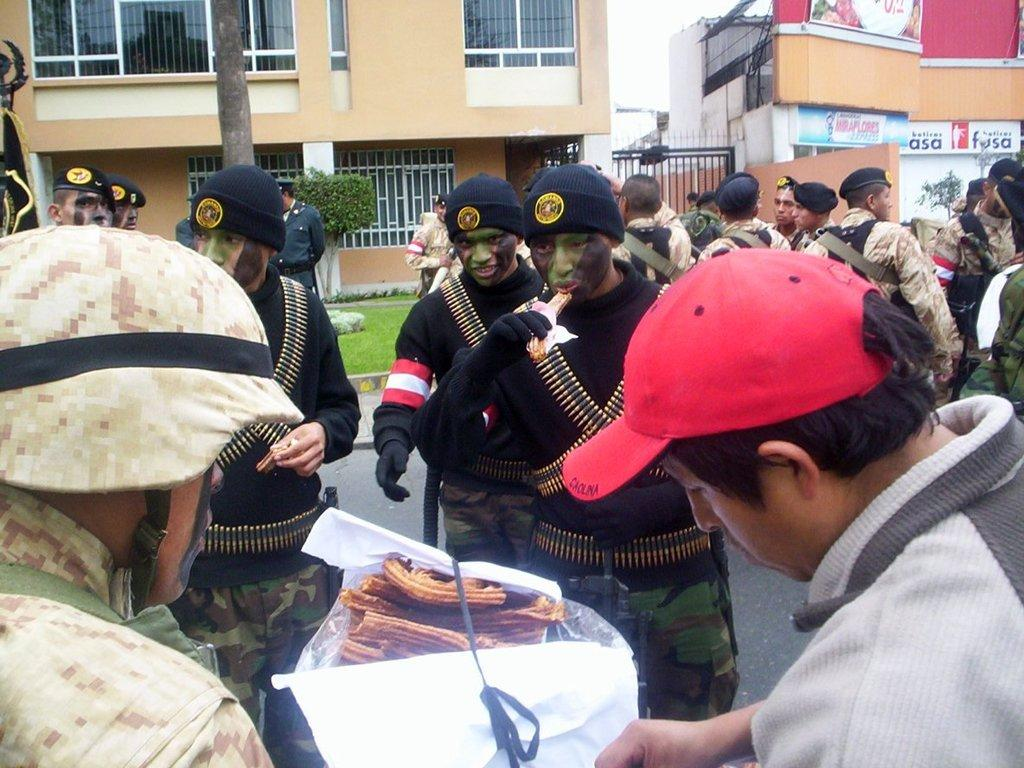Hat: (558, 243, 894, 506), (0, 222, 298, 494), (840, 167, 889, 205), (46, 170, 116, 194), (276, 180, 300, 195)
